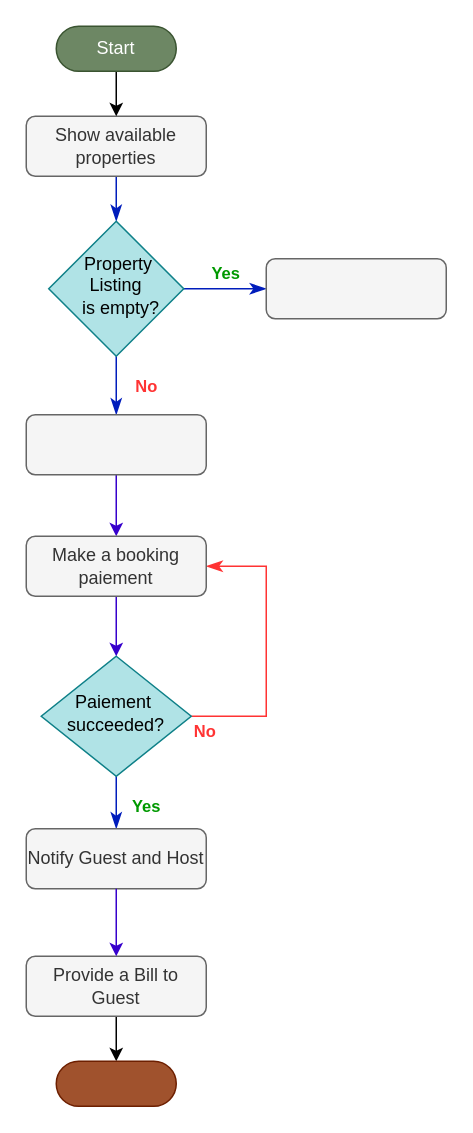
The diagram is 473 pixels wide and 1133 high, and some of its shapes have lost their labels. Here are the shapes that lost their labels. From the top down, the box of each, then its label:
(265, 257, 446, 319): a Host add a property in the listing
(25, 413, 206, 475): Choose a property and view details
(55, 1060, 176, 1106): End
